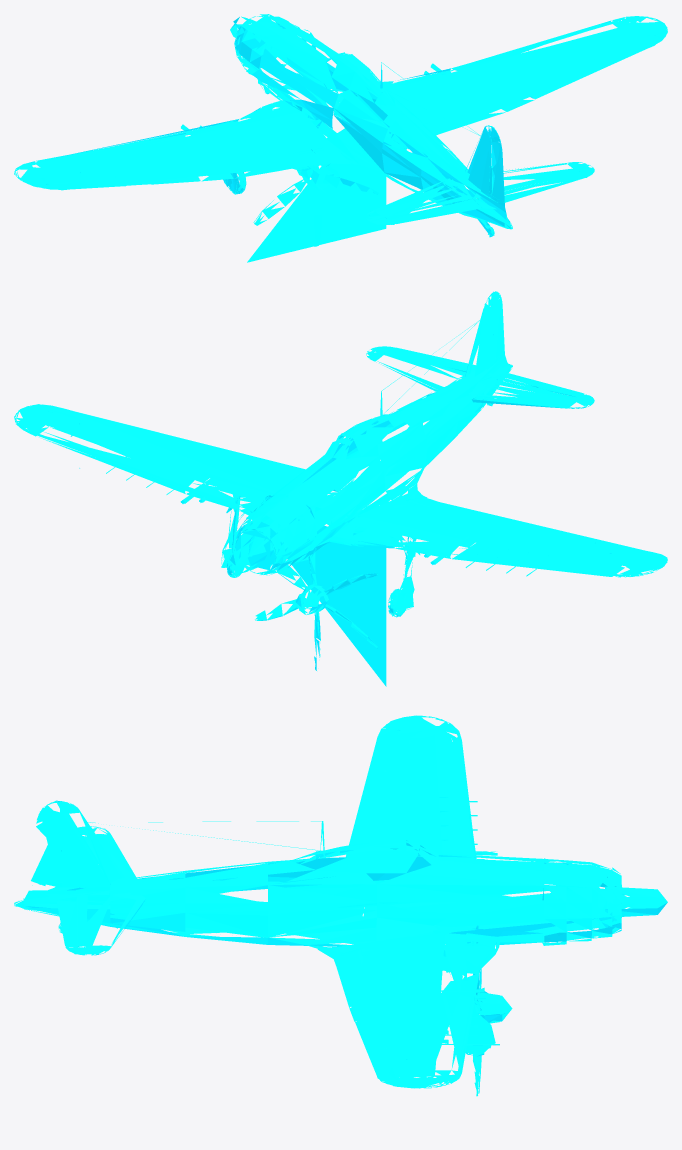
File: PJAF210.glb
3 views of the same model, one above another, from view 1: azimuth 30°, elevation 25°; view 2: azimuth 150°, elevation 25°; view 3: azimuth 270°, elevation 25° (orthographic). The views are drawn at different scales.
Parts seen in each view (by area): view 1: misc; view 2: misc; view 3: misc.
Part boxes in pixels (bbox=[...]): misc: bbox=[14, 14, 667, 262]; misc: bbox=[14, 291, 667, 686]; misc: bbox=[14, 715, 667, 1096].
Size of the model in its own units: 1.07 by 0.3972 by 0.7957.
